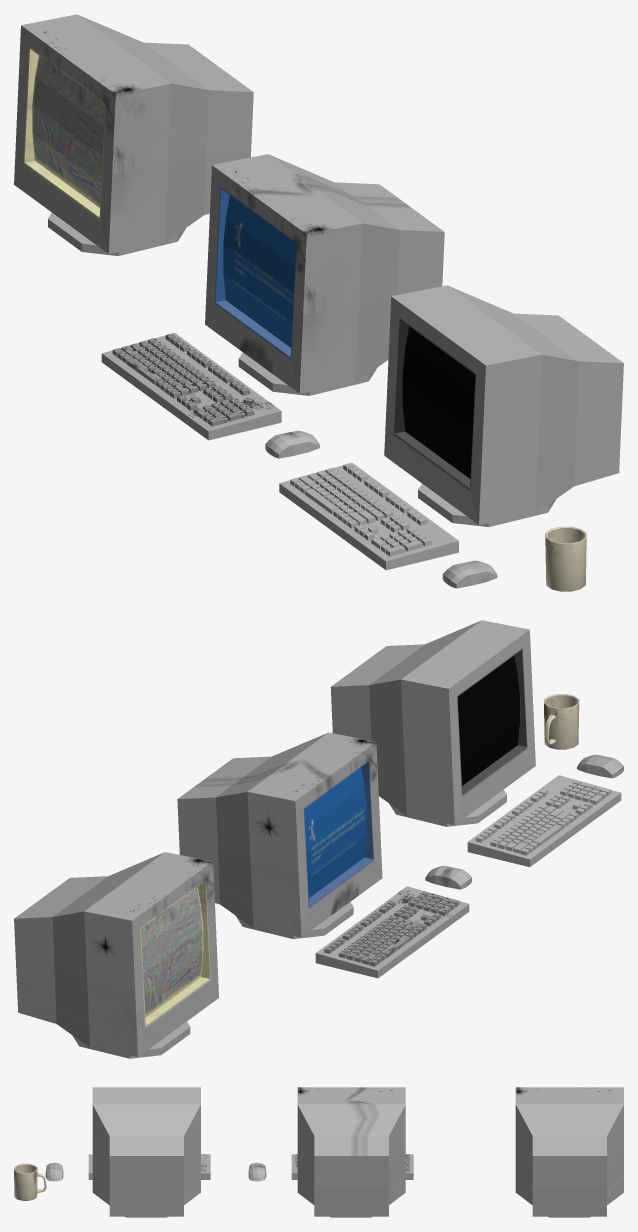
The model's file is bureau (1).fbx.
3 renders of one model, top to bottom at view 1: azimuth 30°, elevation 25°; view 2: azimuth 150°, elevation 25°; view 3: azimuth 270°, elevation 25°, orthographic. The views are drawn at different scales.
Parts seen in each view (by area): view 1: Ecran, Ecran.002, Ecran.001, Clavier.004, Clavier.001, Clavier.005, Clavier, Mug, Souris, Souris.002; view 2: Ecran.002, Ecran.001, Ecran, Clavier.001, Clavier.004, Clavier.005, Clavier, Mug, Souris, Souris.002; view 3: Ecran, Ecran.002, Ecran.001, Mug, Clavier.005, Clavier, Souris.002, Souris.
Part boxes in pixels (left/top/right/bottom): Ecran: left=384, top=285, right=623, bottom=526; Ecran.002: left=14, top=14, right=253, bottom=255; Ecran.001: left=205, top=154, right=444, bottom=395; Clavier.004: left=112, top=333, right=254, bottom=426; Clavier.001: left=290, top=463, right=431, bottom=556; Clavier.005: left=101, top=333, right=281, bottom=440; Clavier: left=279, top=463, right=458, bottom=570; Mug: left=545, top=526, right=586, bottom=591; Souris: left=442, top=560, right=497, bottom=588; Souris.002: left=265, top=430, right=319, bottom=458; Ecran.002: left=14, top=852, right=218, bottom=1058; Ecran.001: left=177, top=732, right=382, bottom=939; Ecran: left=330, top=620, right=535, bottom=826; Clavier.001: left=475, top=780, right=611, bottom=855; Clavier.004: left=324, top=891, right=459, bottom=966; Clavier.005: left=315, top=886, right=469, bottom=978; Clavier: left=467, top=775, right=621, bottom=867; Mug: left=544, top=694, right=579, bottom=749; Souris: left=577, top=754, right=623, bottom=778; Souris.002: left=425, top=865, right=471, bottom=889; Ecran: left=92, top=1087, right=200, bottom=1217; Ecran.002: left=515, top=1087, right=623, bottom=1217; Ecran.001: left=297, top=1087, right=405, bottom=1217; Mug: left=14, top=1163, right=46, bottom=1200; Clavier.005: left=291, top=1154, right=413, bottom=1179; Clavier: left=88, top=1154, right=210, bottom=1179; Souris.002: left=248, top=1162, right=266, bottom=1181; Souris: left=45, top=1162, right=63, bottom=1181.
Bounding box in the file's own units: 310 × 208 × 1117.
